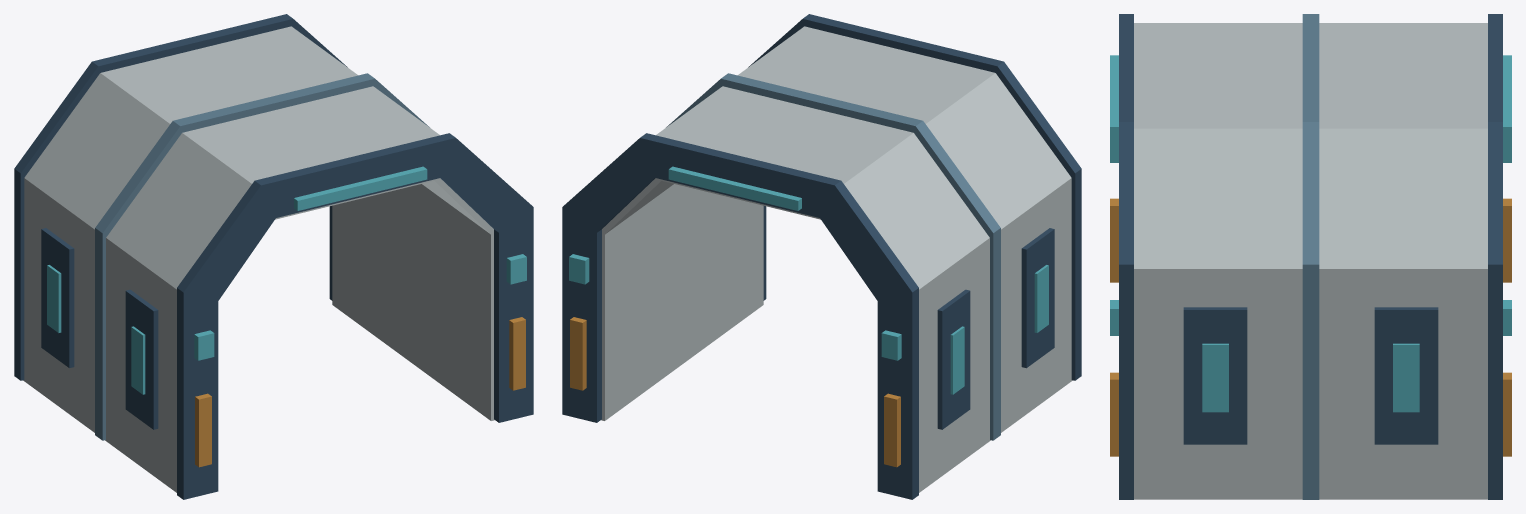
Rendered from SpaceStation_AirlockTunnel_Showcase.glb.
3 renders of one model, left to right at view 1: azimuth 30°, elevation 25°; view 2: azimuth 150°, elevation 25°; view 3: azimuth 270°, elevation 25°, orthographic. The views are drawn at different scales.
Parts seen in each view (by area): view 1: SpaceStation_AirlockTunnel_Showcase; view 2: SpaceStation_AirlockTunnel_Showcase; view 3: SpaceStation_AirlockTunnel_Showcase.
Boxes of the visible parts, box(x1,y1,x2,y2) form: SpaceStation_AirlockTunnel_Showcase: box(14, 14, 533, 499); SpaceStation_AirlockTunnel_Showcase: box(562, 14, 1081, 499); SpaceStation_AirlockTunnel_Showcase: box(1110, 14, 1511, 499).
Size of the model in its own units: 4.42 by 3.5 by 3.79.
